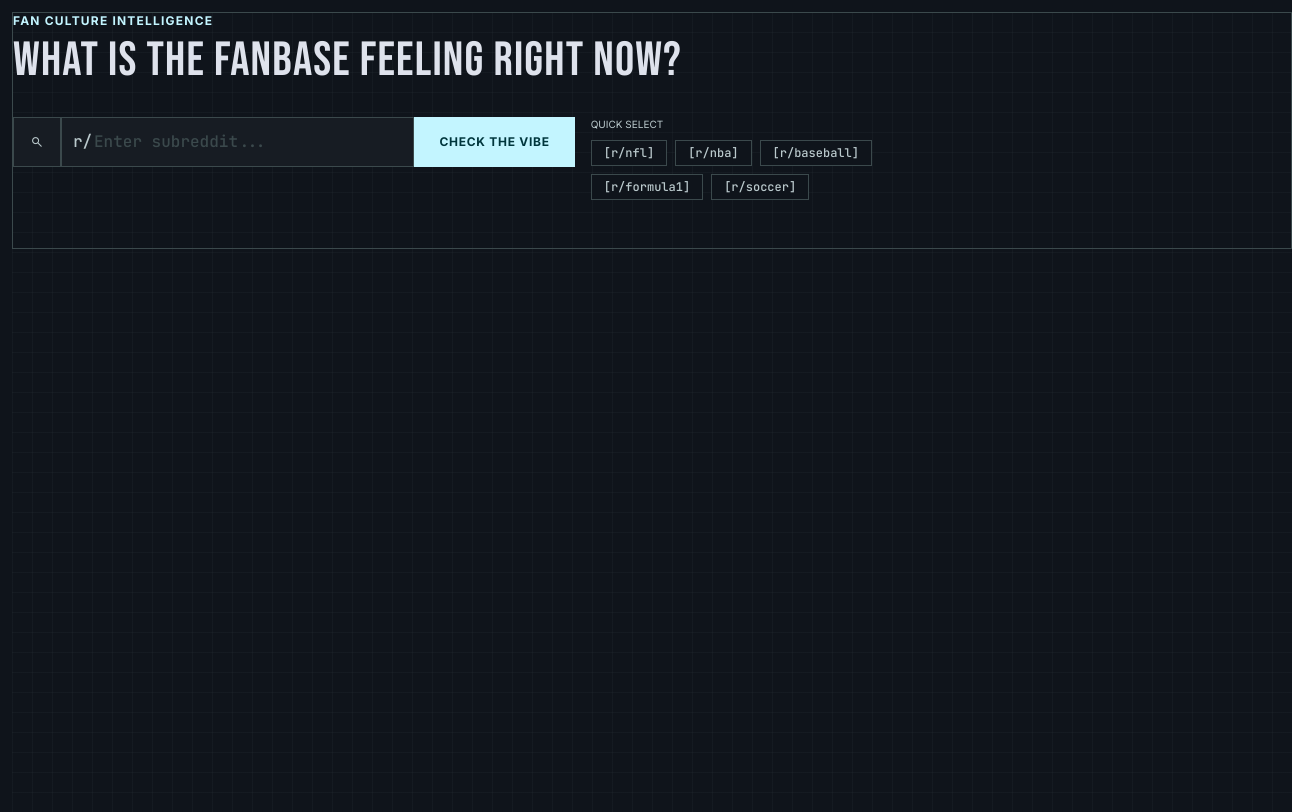
it: HeroSearch › rejects invalid input like "not a valid subreddit!"
Type "not a valid subreddit!" into the field with placeholder "Enter subreddit...".
click(238, 142); type("not a valid subreddit!")  # box [61,117,414,167]
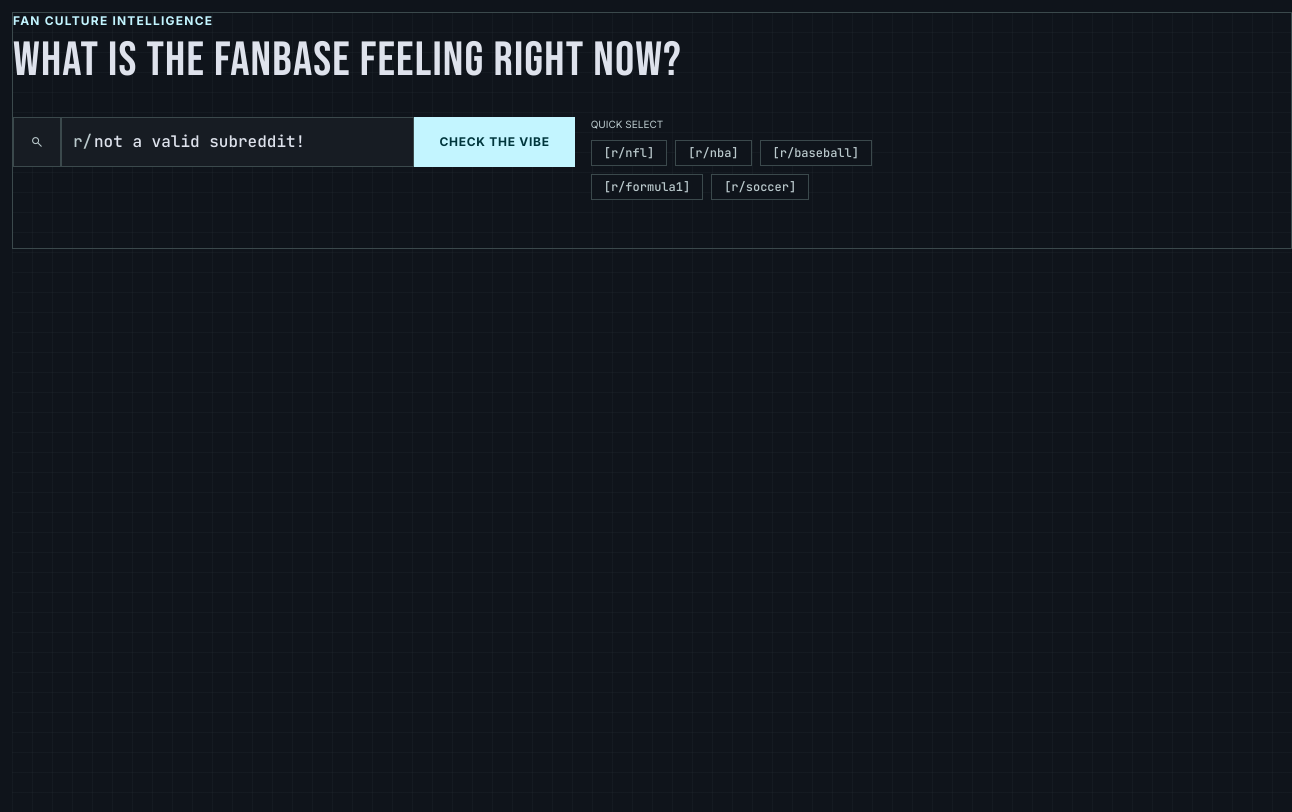
Click the button "CHECK THE VIBE".
click(495, 142)  # box [414,117,575,167]
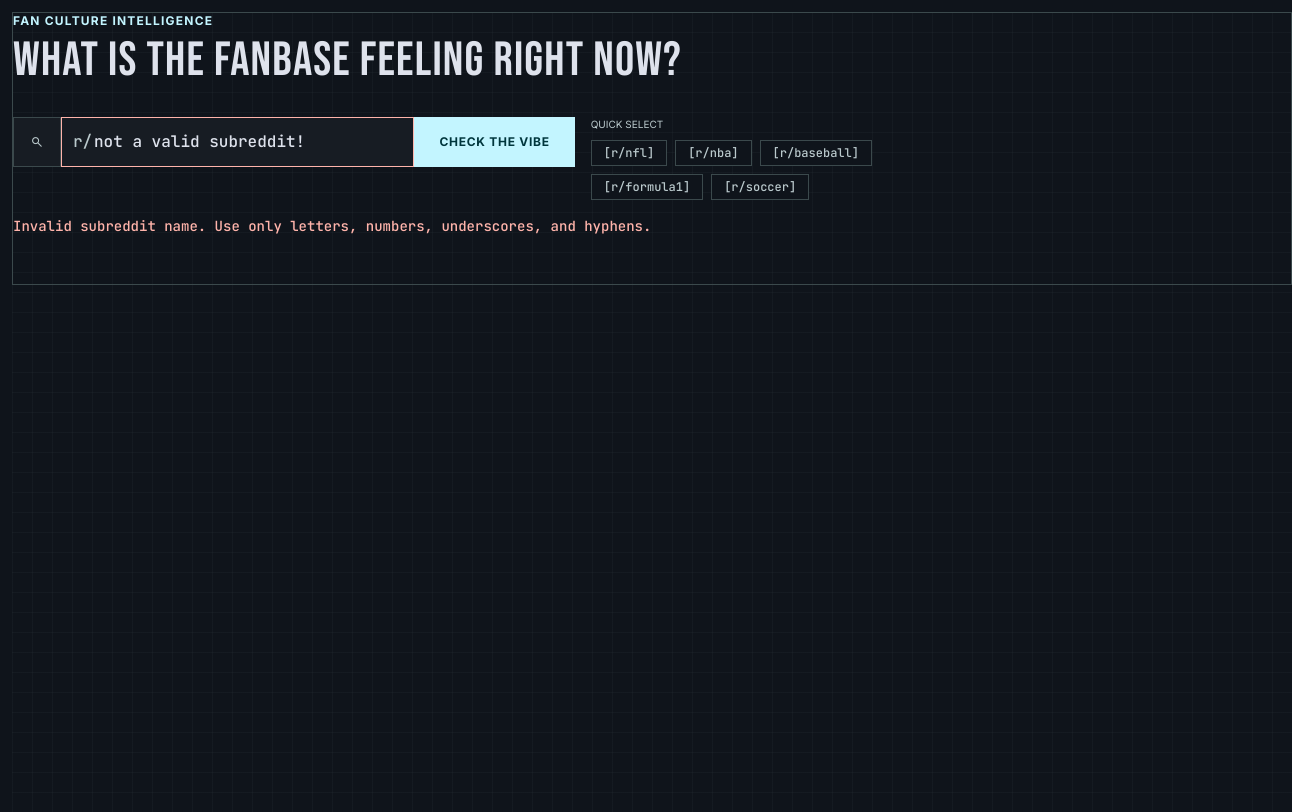
Result: the text "Invalid subreddit name" is shown at [13,217,651,235]
